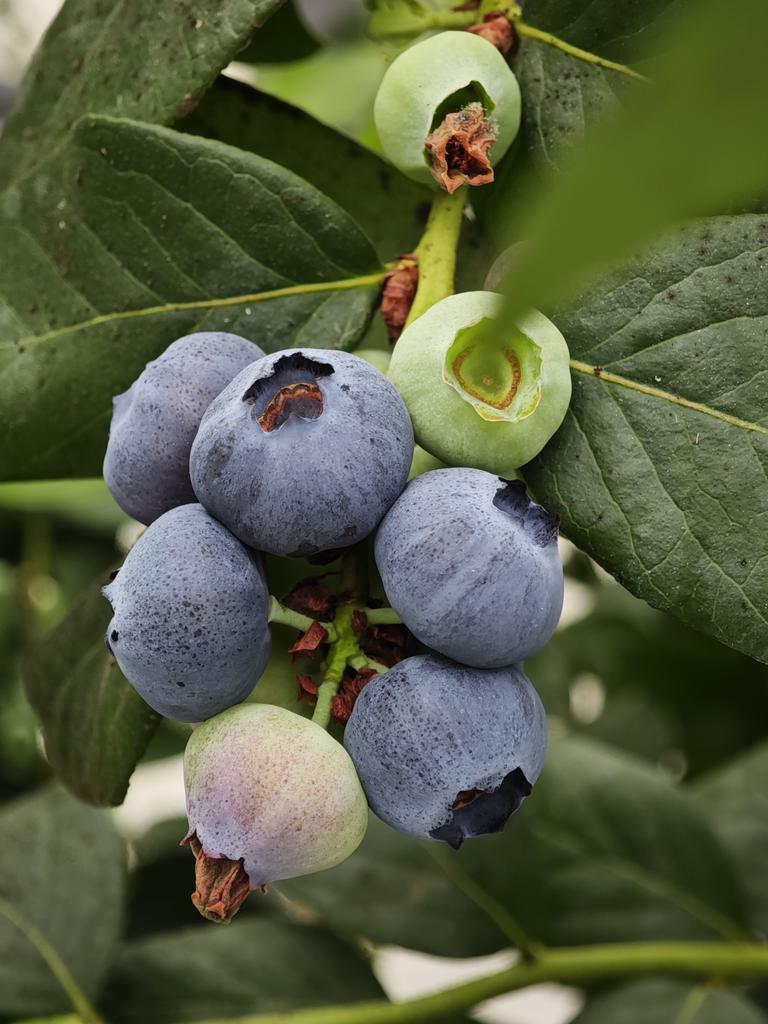RipeBlueBerry: (194, 350, 416, 549), (379, 463, 576, 664), (359, 654, 554, 844), (106, 493, 266, 720)
Semi-RipeBlueBerry: (183, 707, 373, 886)
